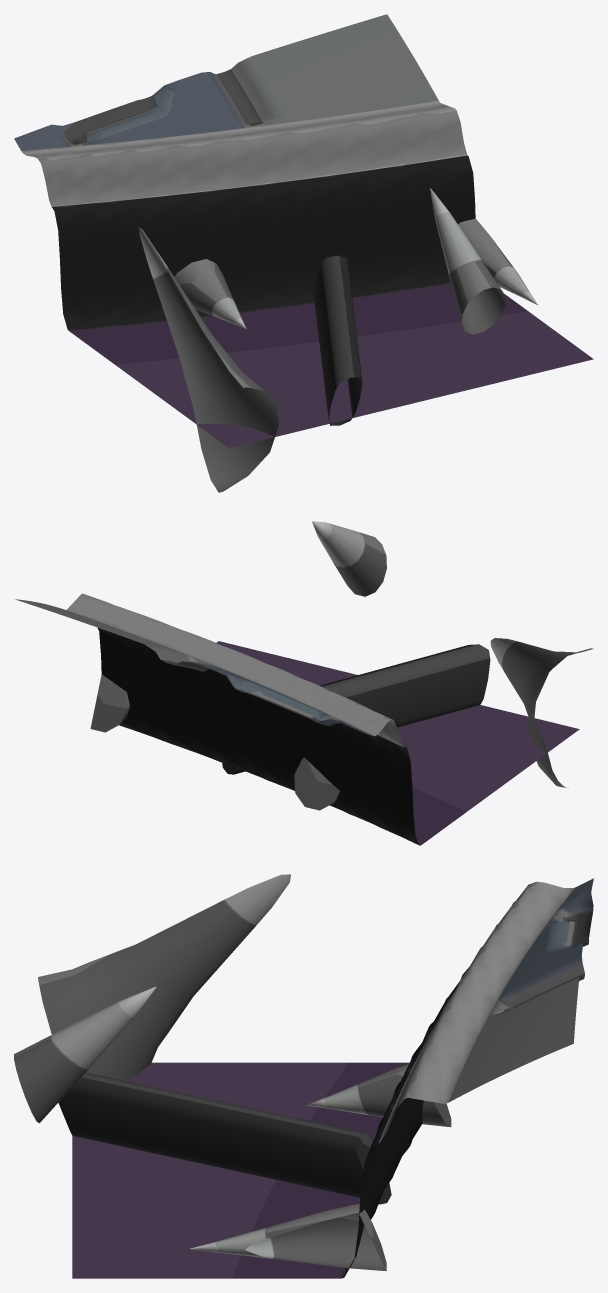
The model's file is coral_citadel_119.glb.
3 renders of one model, top to bottom at view 1: azimuth 30°, elevation 25°; view 2: azimuth 150°, elevation 25°; view 3: azimuth 270°, elevation 25°, orthographic. The views are drawn at different scales.
Visible parts, largest first — view 1: coral_citadel_119; view 2: coral_citadel_119; view 3: coral_citadel_119.
Boxes of the visible parts, x1,y1,x2,y2 form: coral_citadel_119: (14, 14, 593, 492); coral_citadel_119: (15, 521, 593, 845); coral_citadel_119: (14, 874, 593, 1278).
Bounding box in the file's own units: 24 × 15.46 × 27.26.
